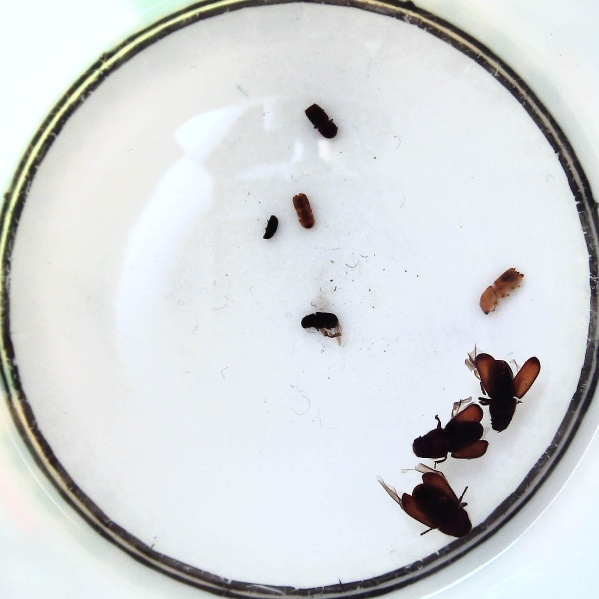acuminatus: (292, 193, 316, 229)
armandi: (300, 309, 342, 340)
boerner: (479, 267, 524, 316)
coleoptera: (262, 213, 279, 240)
leconte: (397, 470, 471, 538), (481, 350, 541, 433), (411, 403, 486, 461)
linnaeus: (303, 101, 339, 140)
